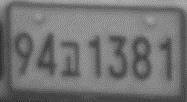1: (159, 34, 175, 83), (87, 34, 103, 78)
3: (106, 33, 130, 79)
4: (36, 31, 58, 77)
8: (130, 35, 153, 81)
9: (13, 32, 35, 77)
고: (57, 40, 82, 78)
